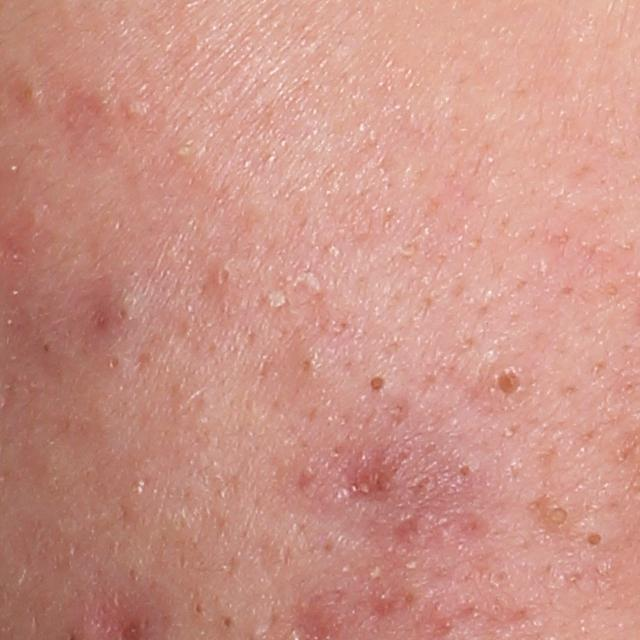comedo: (483, 365, 523, 405), (537, 503, 575, 535), (361, 369, 393, 403), (582, 526, 611, 559), (117, 96, 148, 125), (209, 261, 238, 290), (170, 138, 202, 161), (21, 80, 44, 106), (218, 613, 237, 634), (106, 353, 126, 370), (456, 460, 473, 477), (39, 339, 58, 353)
